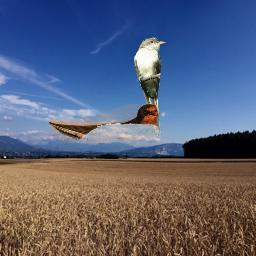Cuckoo: (134, 37, 166, 137)
Swallow: (49, 103, 159, 143)
